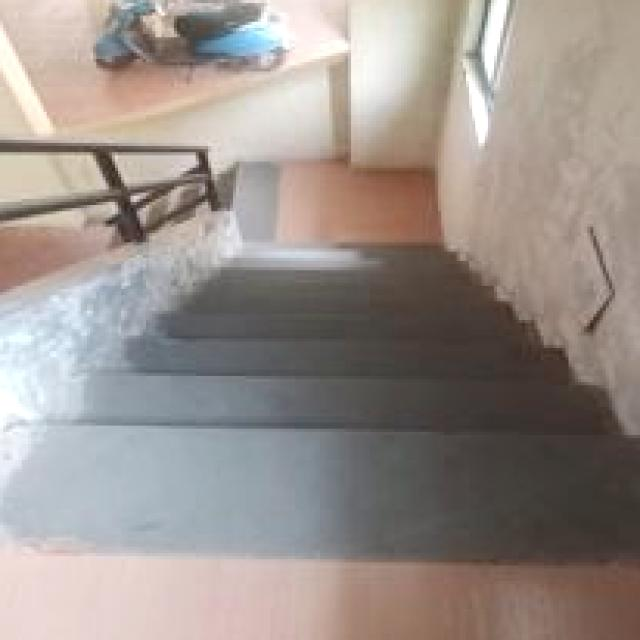downstair: (98, 287, 533, 507)
